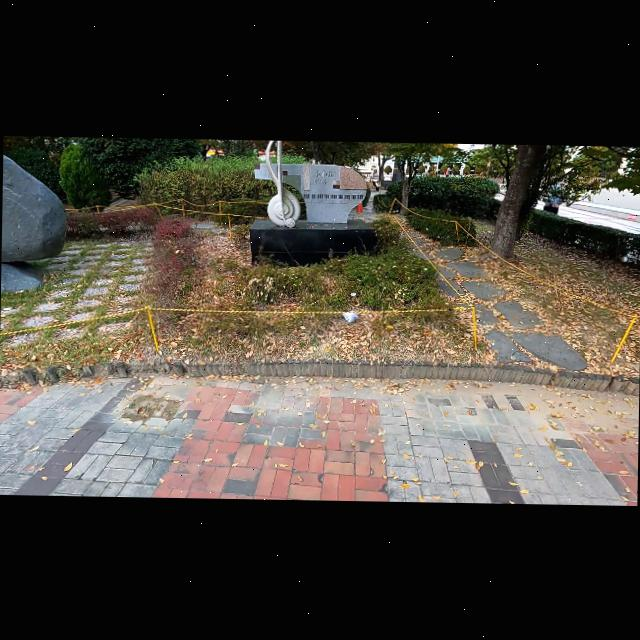trash: (340, 306, 358, 326)
